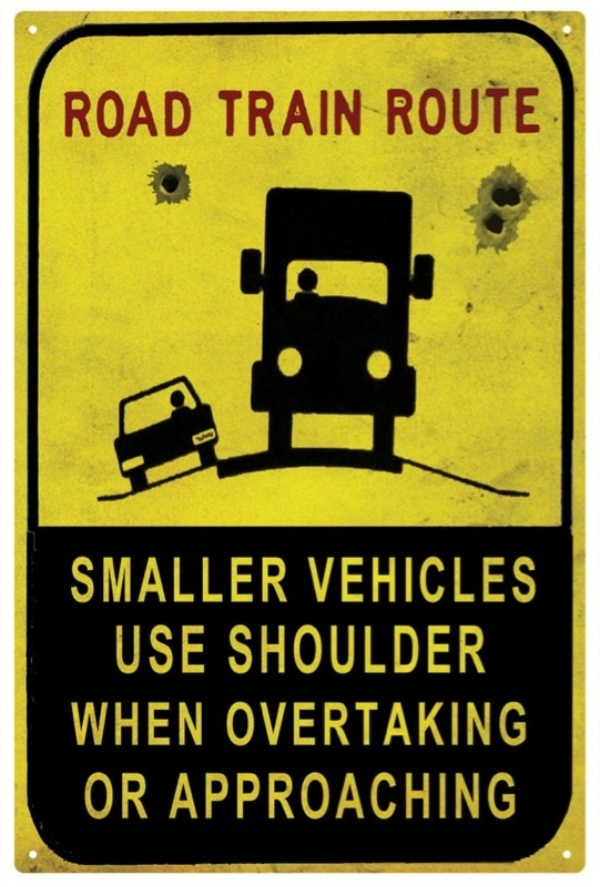text: (241, 621, 256, 676), (257, 621, 272, 676), (273, 621, 288, 676), (289, 621, 304, 676), (305, 621, 320, 676), (321, 621, 336, 676), (337, 621, 352, 676), (353, 621, 368, 676), (369, 621, 384, 676), (385, 621, 400, 676), (401, 621, 416, 676), (417, 621, 432, 676), (433, 621, 448, 676), (449, 621, 464, 676), (465, 621, 480, 676), (177, 89, 193, 139), (385, 85, 400, 138), (401, 85, 416, 138), (417, 85, 432, 138), (433, 85, 448, 138), (449, 85, 464, 138), (465, 85, 480, 138), (481, 85, 496, 138), (497, 85, 512, 138), (513, 85, 528, 138), (273, 555, 289, 604), (129, 623, 144, 675), (145, 623, 160, 675), (161, 623, 176, 675), (177, 623, 192, 675), (225, 87, 240, 138), (241, 87, 256, 138), (257, 87, 272, 138), (273, 87, 288, 138), (289, 87, 304, 138), (305, 87, 320, 138), (321, 87, 336, 138), (337, 87, 352, 138), (177, 770, 192, 821), (193, 770, 208, 821), (209, 770, 224, 821), (225, 770, 240, 821), (241, 770, 256, 821), (257, 770, 272, 821), (273, 770, 288, 821), (289, 770, 304, 821), (305, 770, 320, 821), (321, 770, 336, 821), (337, 770, 352, 821), (353, 770, 368, 821), (369, 770, 384, 821), (385, 770, 400, 821), (401, 770, 416, 821), (417, 770, 432, 821), (433, 770, 448, 821), (449, 770, 464, 821), (465, 770, 480, 821), (481, 770, 496, 821), (497, 770, 512, 821), (65, 89, 80, 139), (81, 89, 96, 139), (97, 89, 112, 139), (113, 89, 128, 139), (129, 89, 144, 139), (145, 89, 160, 139), (161, 89, 176, 139), (321, 554, 336, 604), (337, 554, 352, 604), (353, 554, 368, 604), (369, 554, 384, 604), (385, 554, 400, 604), (401, 554, 416, 604), (417, 554, 432, 604), (433, 554, 448, 604), (449, 554, 464, 604), (465, 554, 480, 604), (481, 554, 496, 604), (497, 554, 512, 604), (513, 554, 528, 604), (241, 698, 256, 748), (257, 698, 272, 748), (273, 698, 288, 748), (289, 698, 304, 748), (305, 698, 320, 748), (321, 698, 336, 748), (337, 698, 352, 748), (353, 698, 368, 748), (369, 698, 384, 748), (385, 698, 400, 748), (401, 698, 416, 748), (417, 698, 432, 748), (433, 698, 448, 748), (449, 698, 464, 748), (465, 698, 480, 748), (481, 698, 496, 748), (497, 698, 512, 748), (513, 698, 528, 748), (97, 771, 112, 821), (113, 771, 128, 821), (129, 771, 144, 821), (81, 555, 96, 604), (97, 555, 112, 604), (113, 555, 128, 604), (129, 555, 144, 604), (145, 555, 160, 604), (161, 555, 176, 604), (177, 555, 192, 604), (193, 555, 208, 604), (209, 555, 224, 604), (225, 555, 240, 604), (241, 555, 256, 604), (257, 555, 272, 604), (193, 623, 207, 675), (227, 621, 240, 676), (81, 700, 96, 747), (97, 700, 112, 747), (113, 700, 128, 747), (129, 700, 144, 747), (145, 700, 160, 747), (161, 700, 176, 747), (177, 700, 192, 747), (529, 85, 542, 138), (115, 623, 128, 675), (227, 698, 240, 748), (83, 771, 96, 821), (308, 554, 320, 604), (353, 87, 364, 138), (69, 700, 80, 747), (70, 555, 80, 604), (193, 700, 203, 747), (529, 554, 538, 604), (168, 770, 176, 821), (217, 87, 224, 138), (481, 621, 486, 676), (513, 770, 517, 821), (145, 771, 148, 821), (63, 89, 64, 139)
